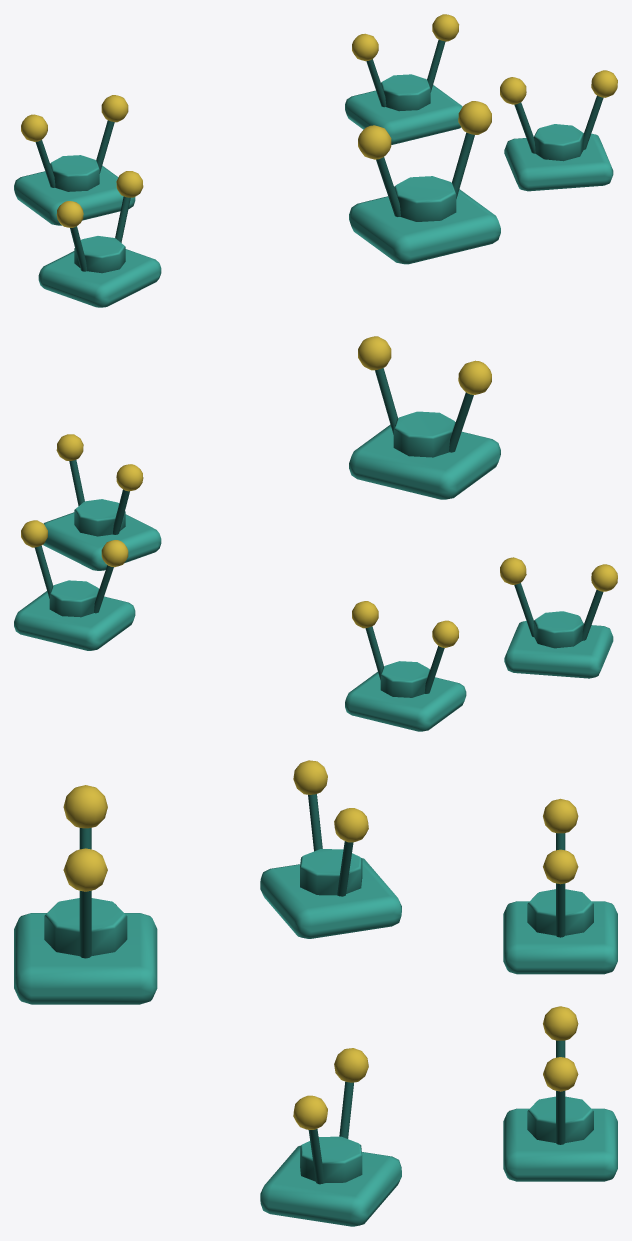
File: out-of-towners-lod1.glb
3 renders of one model, top to bottom at view 1: azimuth 30°, elevation 25°; view 2: azimuth 150°, elevation 25°; view 3: azimuth 270°, elevation 25°, orthographic. The views are drawn at different scales.
Parts seen in each view (by area): view 1: cap_hat, att2_hat, att3_hat, att0_hat, att1_hat; view 2: cap_hat, att0_hat, att1_hat, att3_hat, att2_hat; view 3: cap_hat, att2_hat, att3_hat, att1_hat, att0_hat.
Boxes of the visible parts, box(x1,y1,x2,y2) form: cap_hat: box(349, 101, 500, 264); att2_hat: box(500, 70, 617, 191); att3_hat: box(38, 171, 161, 307); att0_hat: box(345, 14, 462, 144); att1_hat: box(14, 95, 135, 225); cap_hat: box(349, 336, 500, 499); att0_hat: box(14, 520, 135, 650); att1_hat: box(345, 601, 466, 731); att3_hat: box(500, 557, 617, 678); att2_hat: box(43, 434, 161, 570); cap_hat: box(14, 785, 157, 1004); att2_hat: box(260, 1048, 401, 1226); att3_hat: box(260, 760, 401, 938); att1_hat: box(503, 798, 617, 974); att0_hat: box(503, 1006, 617, 1181).
Size of the model in its own units: 2.1 by 0.6632 by 1.53.
